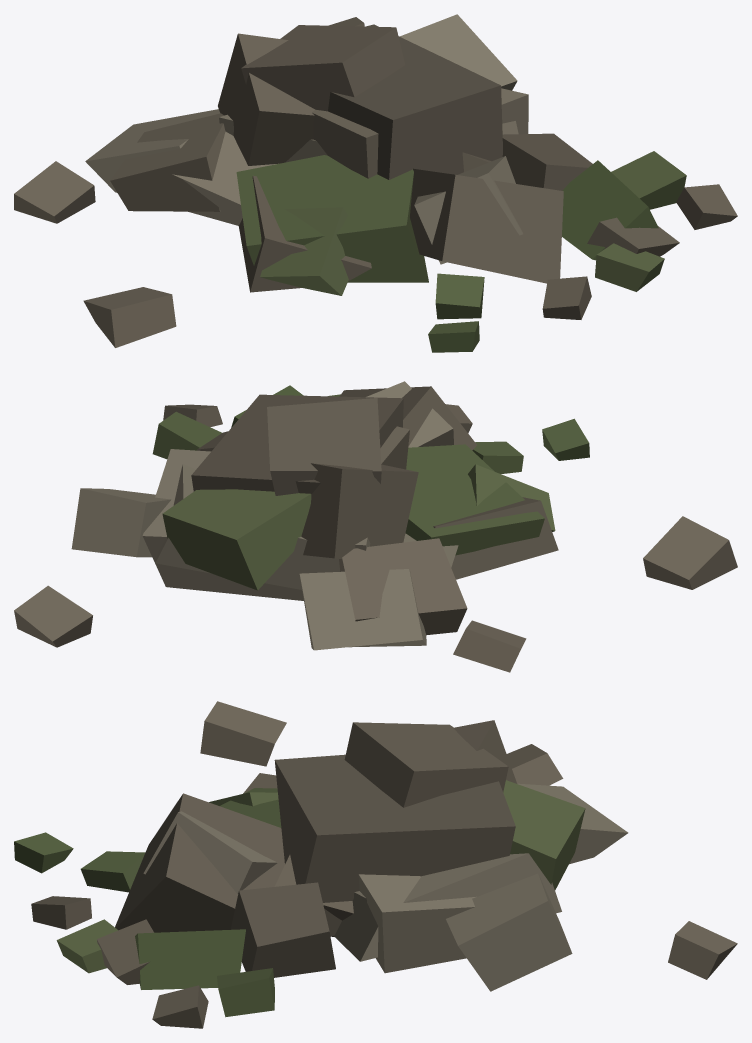
File: low_poly_rubble.glb
The picture shows the model from 3 angles, top to bottom: view 1: azimuth 30°, elevation 25°; view 2: azimuth 150°, elevation 25°; view 3: azimuth 270°, elevation 25°; orthographic projection. The views are drawn at different scales.
Visible parts, largest first — view 1: Rubble; view 2: Rubble; view 3: Rubble.
Part boxes in pixels (bbox=[...]): Rubble: bbox=[14, 14, 737, 352]; Rubble: bbox=[14, 381, 737, 672]; Rubble: bbox=[14, 701, 737, 1028].
Bounding box in the file's own units: 1.82 × 0.4634 × 1.9.
